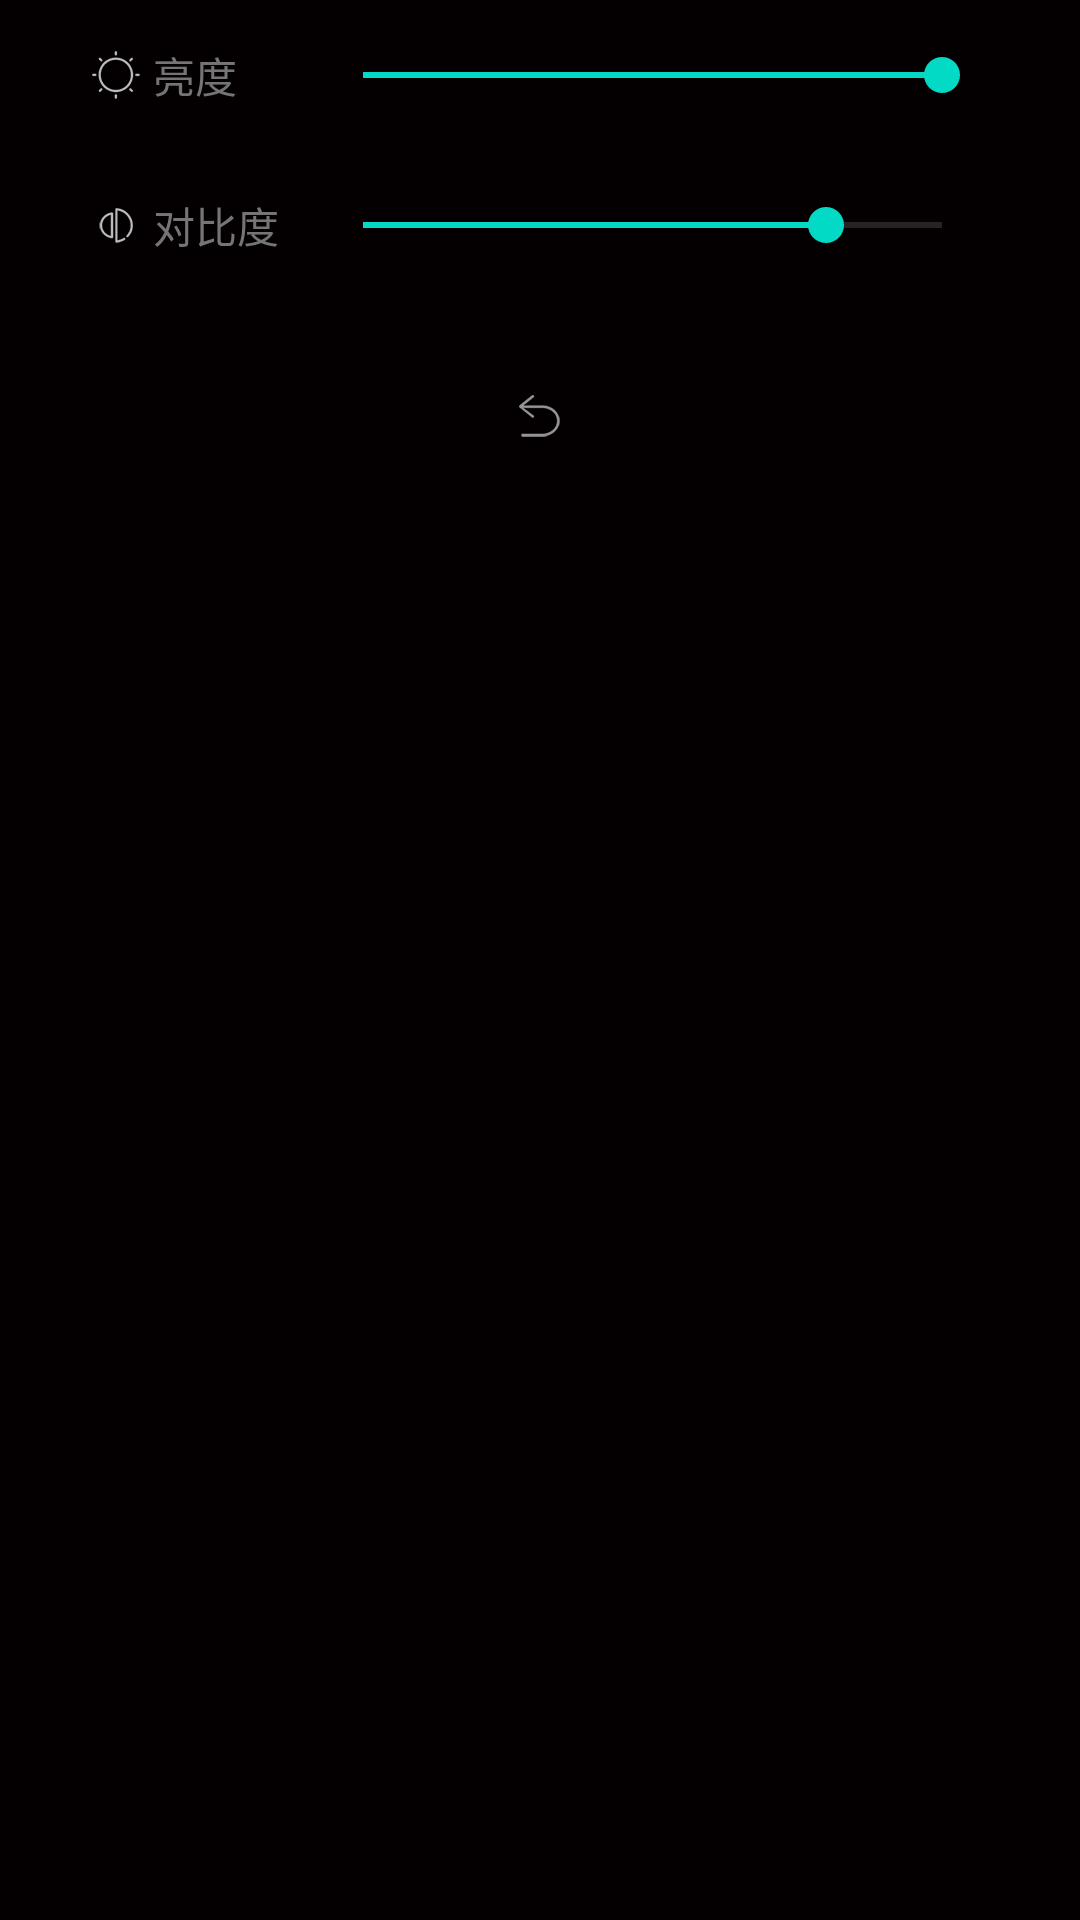

Where to tap for icons on this 1080 × 1920 app screen, as (x=x, y=y):
back: (x=539, y=416)
